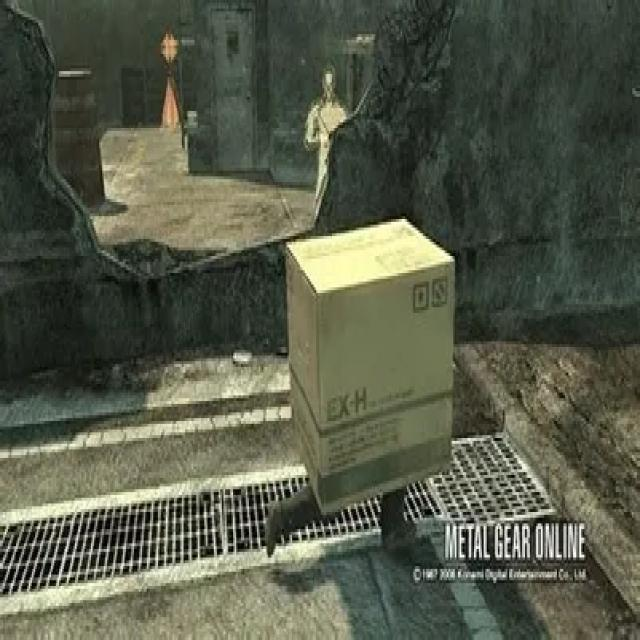snake-in-cardboard-boxes: (283, 212, 458, 520)
